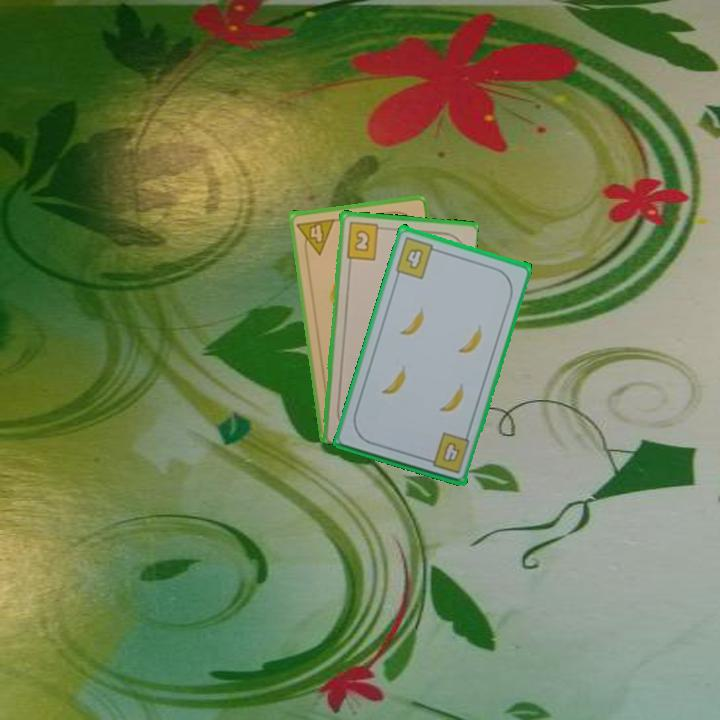2b: (342, 218, 387, 262)
4b: (391, 233, 443, 281), (421, 429, 472, 476)
4p: (293, 215, 338, 258)
